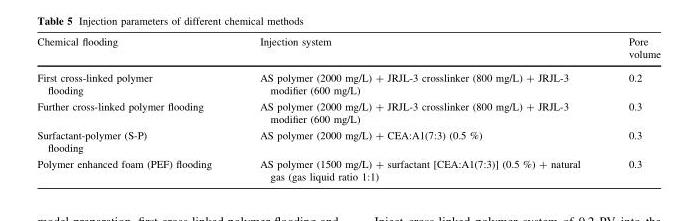table: (36, 36, 660, 181)
table column: (235, 36, 603, 181), (36, 36, 235, 181), (603, 36, 660, 181)
table column header: (36, 36, 660, 66)
table row: (36, 66, 660, 98), (36, 36, 660, 66), (36, 98, 660, 127), (36, 127, 660, 156), (36, 156, 660, 181)
